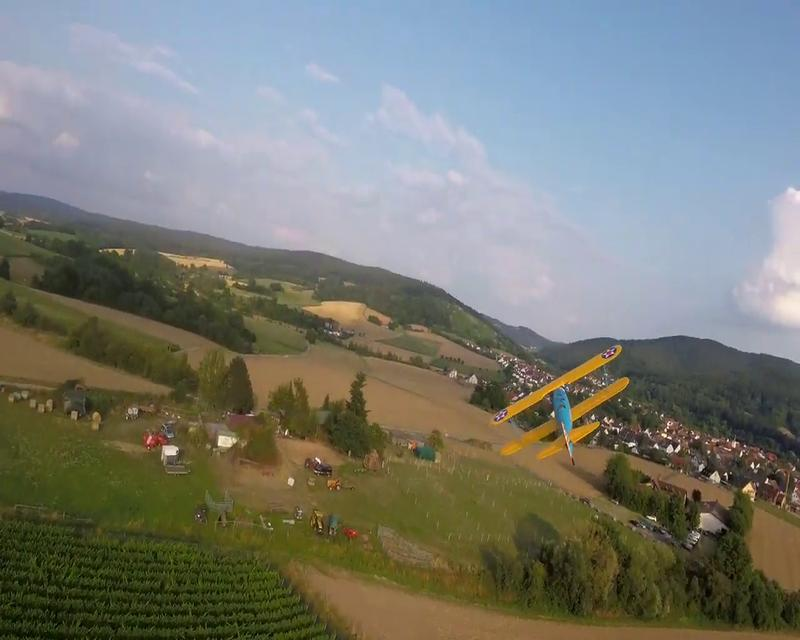UAV: (489, 343, 630, 466)
